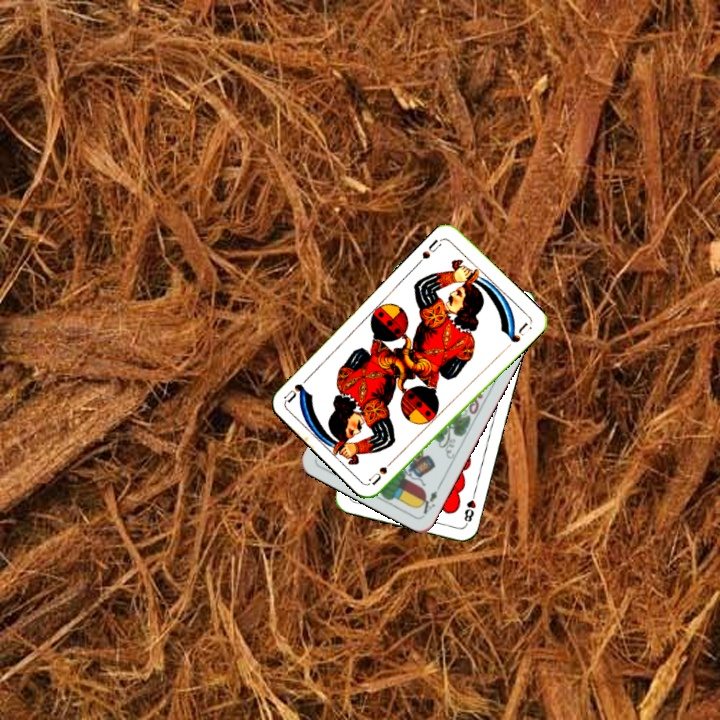EA: (415, 480, 444, 517)
H8: (460, 488, 478, 528)
SU: (365, 453, 399, 488), (418, 235, 446, 261)
